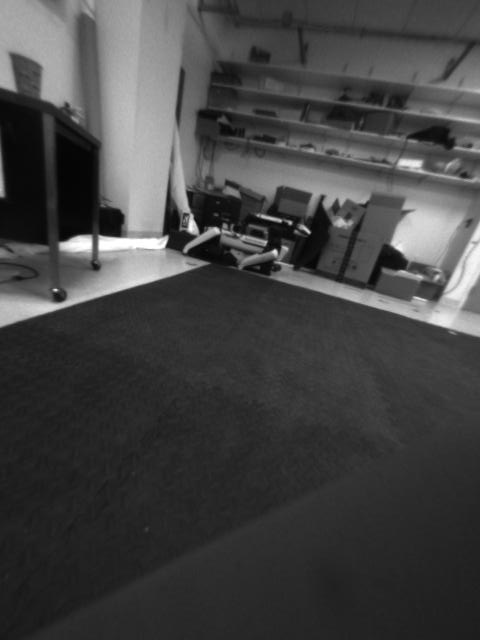coffee_cup: (8, 52, 42, 98)
